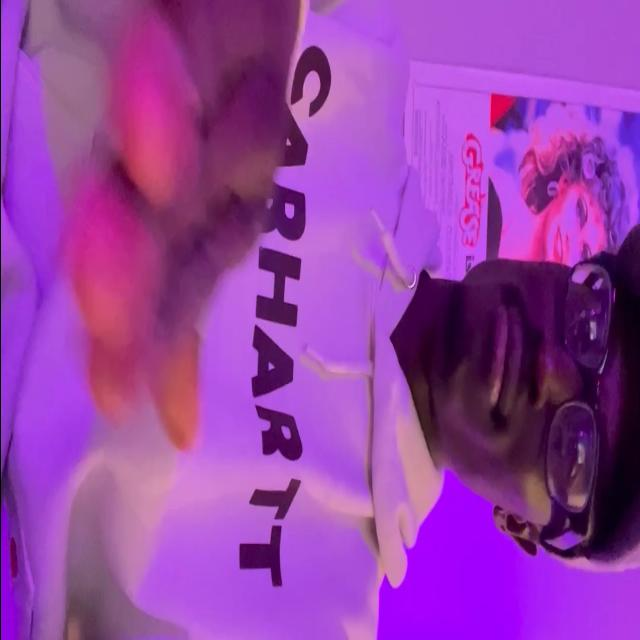Paper: (73, 0, 297, 452)
